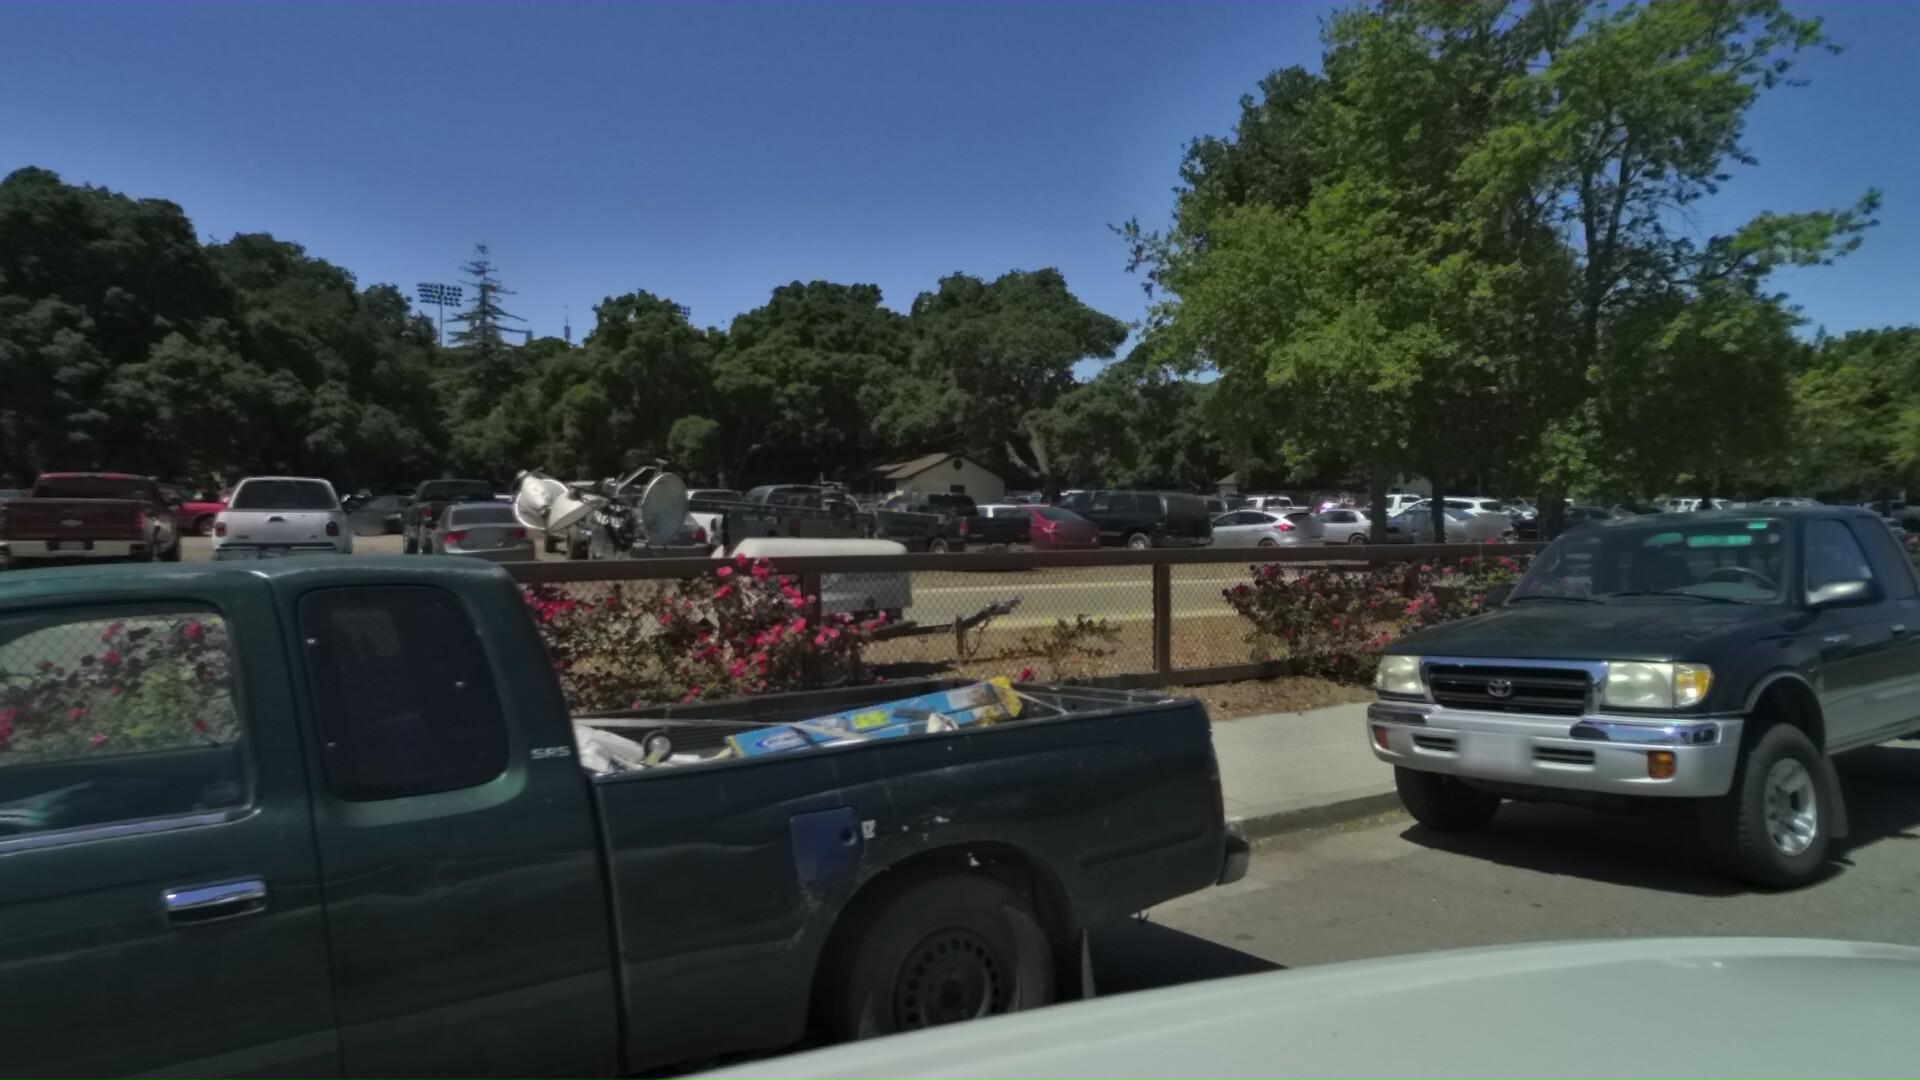car: (0, 514, 1400, 1080), (1379, 484, 1920, 940), (1900, 489, 1920, 738)
